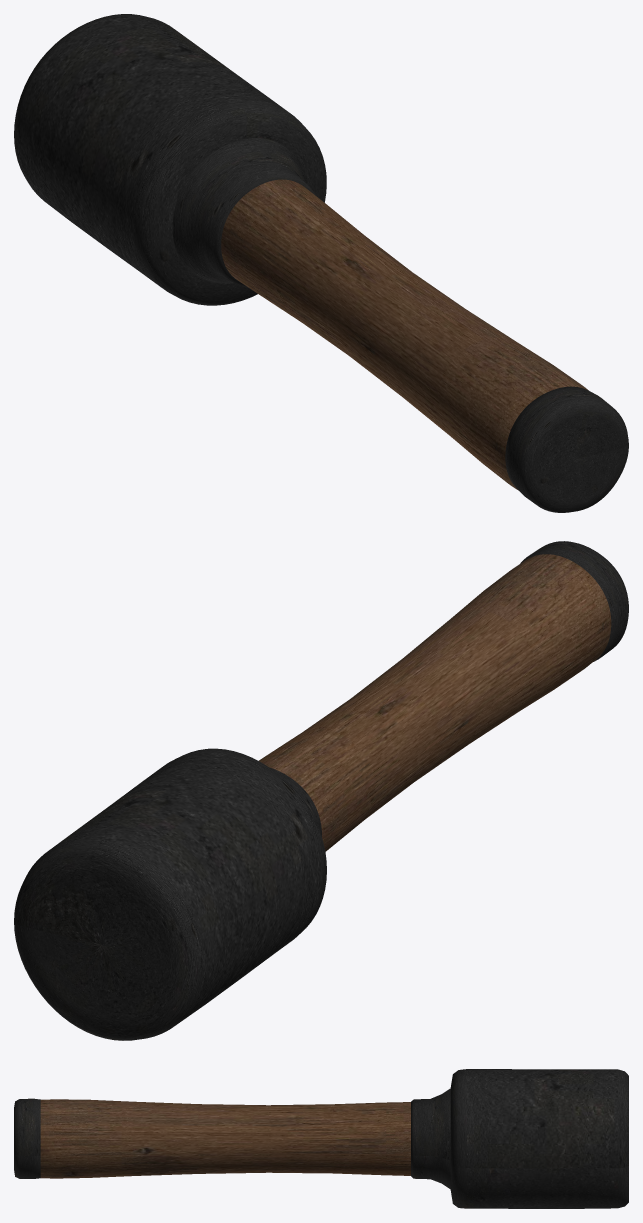
Rendered from Model_Type24Grenade.glb.
3 views of the same model, one above another, from view 1: azimuth 30°, elevation 25°; view 2: azimuth 150°, elevation 25°; view 3: azimuth 270°, elevation 25° (orthographic). The views are drawn at different scales.
Parts seen in each view (by area): view 1: Model_GongxianGrenade; view 2: Model_GongxianGrenade; view 3: Model_GongxianGrenade.
Part boxes in pixels (left/top/right/bottom): Model_GongxianGrenade: left=14, top=14, right=628, bottom=512; Model_GongxianGrenade: left=14, top=541, right=628, bottom=1040; Model_GongxianGrenade: left=14, top=1069, right=628, bottom=1208.
Size of the model in its own units: 0.0501 by 0.0501 by 0.22.
1 material, 1 textured.
